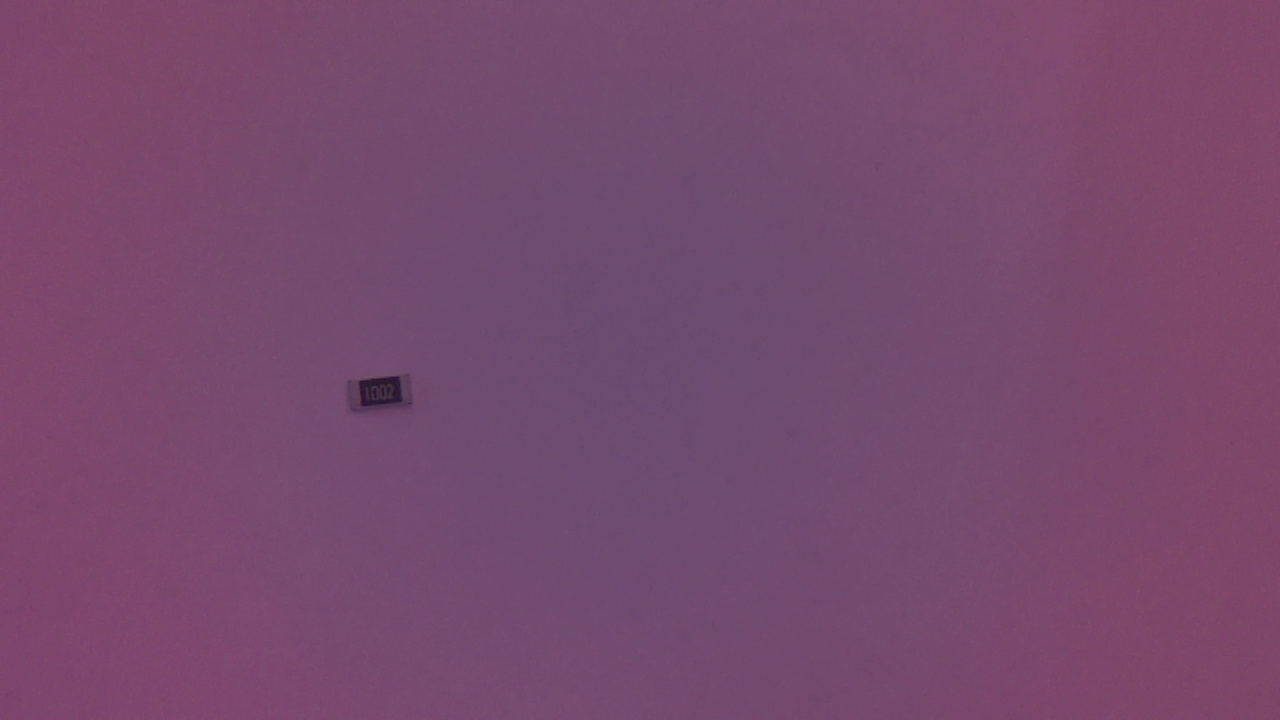Resistor: (344, 369, 425, 425)
